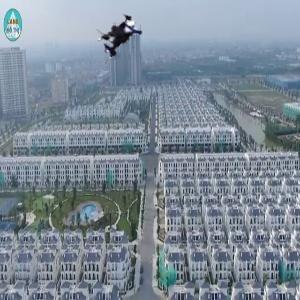drone: (91, 4, 169, 82)
